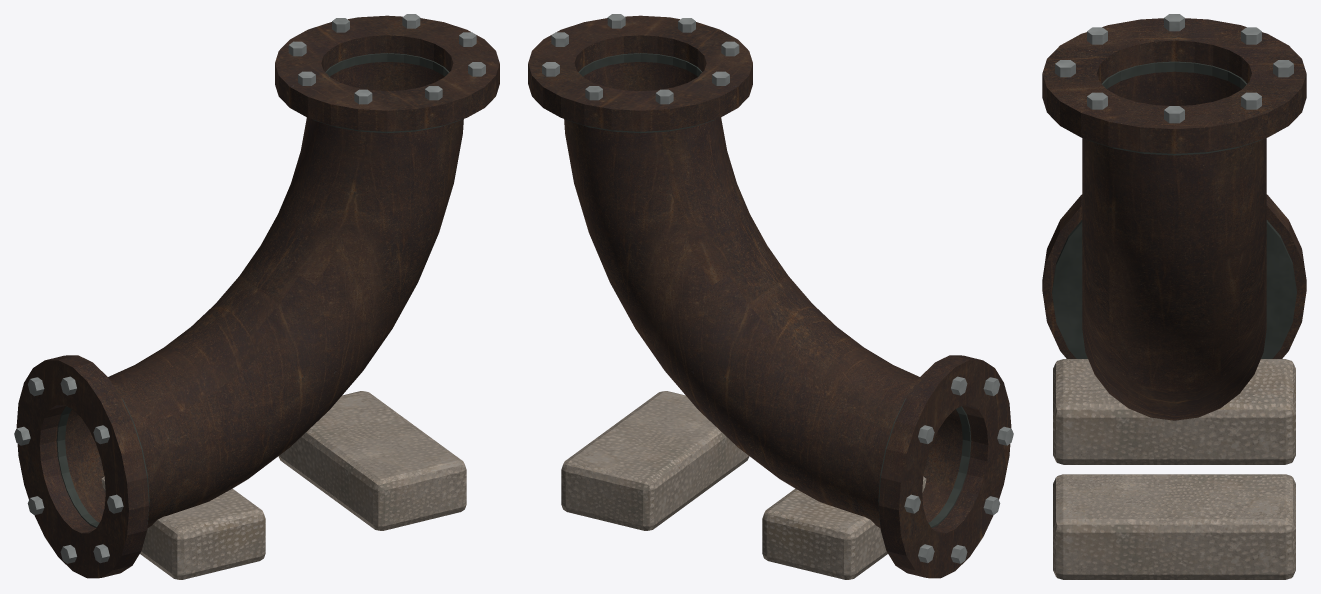
The model's file is f3_flanged_pipe.glb.
3 views of the same model, side by side, from view 1: azimuth 30°, elevation 25°; view 2: azimuth 150°, elevation 25°; view 3: azimuth 270°, elevation 25° (orthographic). The views are drawn at different scales.
Visible parts, largest first — view 1: f3_oxidized_iron_surface, f3_weathered_concrete_surface, f3_bare_worn_steel_surface, f3_aged_rubber_surface; view 2: f3_oxidized_iron_surface, f3_weathered_concrete_surface, f3_bare_worn_steel_surface, f3_aged_rubber_surface; view 3: f3_oxidized_iron_surface, f3_weathered_concrete_surface, f3_aged_rubber_surface, f3_bare_worn_steel_surface.
Boxes of the visible parts, x1,y1,x2,y2 form: f3_oxidized_iron_surface: [16, 15, 499, 578]; f3_weathered_concrete_surface: [101, 391, 466, 579]; f3_bare_worn_steel_surface: [14, 14, 485, 563]; f3_aged_rubber_surface: [56, 53, 462, 527]; f3_oxidized_iron_surface: [528, 15, 1011, 578]; f3_weathered_concrete_surface: [561, 391, 926, 579]; f3_bare_worn_steel_surface: [542, 14, 1013, 563]; f3_aged_rubber_surface: [565, 53, 971, 527]; f3_oxidized_iron_surface: [1042, 18, 1306, 420]; f3_weathered_concrete_surface: [1053, 359, 1295, 579]; f3_aged_rubber_surface: [1052, 61, 1296, 358]; f3_bare_worn_steel_surface: [1055, 14, 1293, 123].
Bounding box in the file's own units: 1.36 × 1.36 × 0.63.
4 materials, 4 textured.
